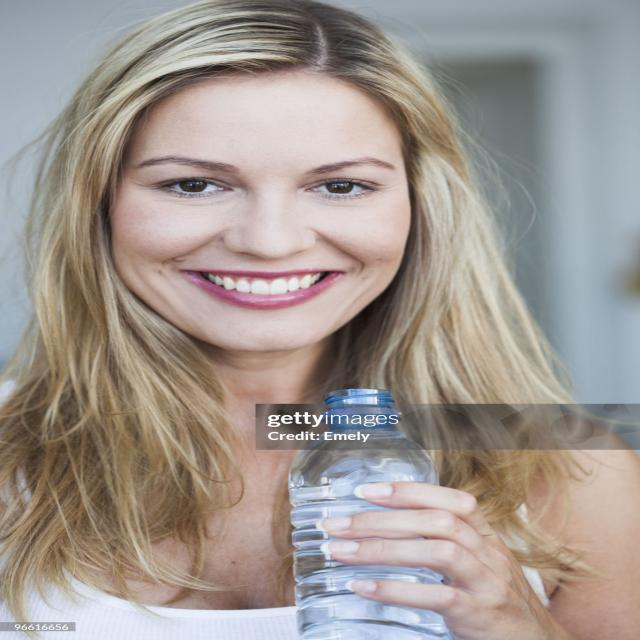bottle: (282, 386, 468, 640)
